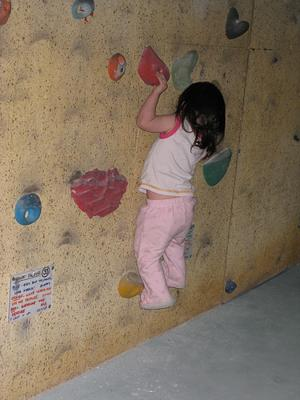person: (134, 72, 226, 311)
